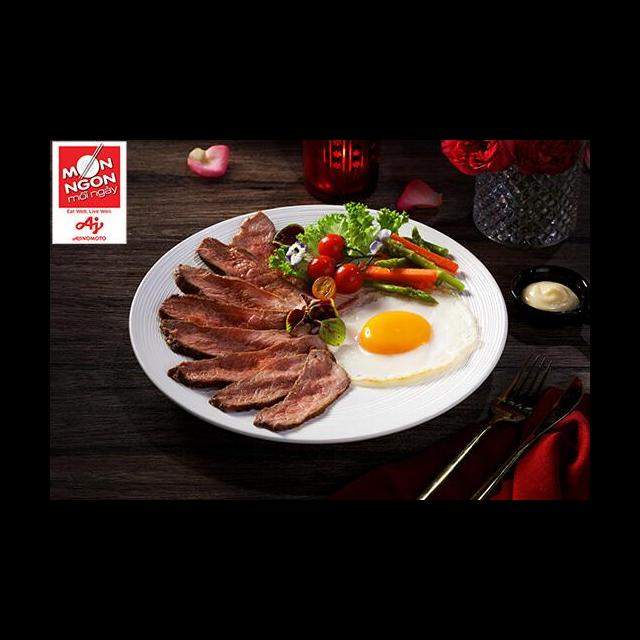thit bo: (164, 329, 341, 395), (193, 234, 319, 314), (250, 345, 355, 433), (205, 347, 332, 416), (228, 208, 317, 297), (155, 290, 312, 338), (170, 262, 304, 318), (157, 314, 316, 356)
trung: (318, 281, 483, 388)
